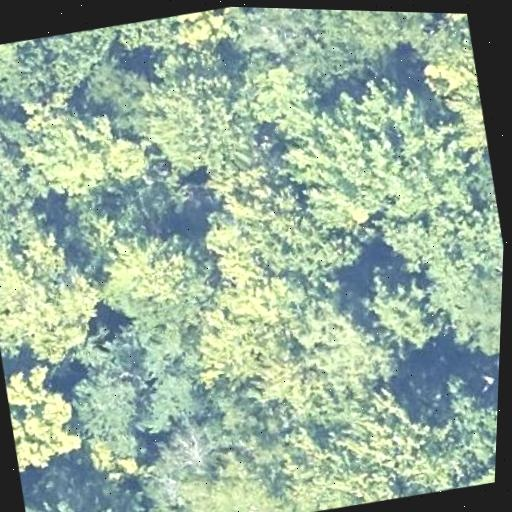tree-top: (270, 68, 447, 237), (53, 311, 214, 453), (18, 76, 160, 212), (0, 220, 121, 371), (180, 287, 312, 421), (132, 60, 267, 182), (90, 215, 222, 325), (314, 401, 442, 512), (288, 284, 399, 406), (249, 189, 373, 294), (0, 348, 97, 478), (0, 21, 131, 117), (171, 439, 307, 512), (236, 52, 333, 149), (356, 263, 449, 363), (294, 9, 443, 71), (424, 39, 494, 169), (428, 254, 503, 368), (0, 101, 57, 249), (418, 416, 497, 494), (239, 7, 327, 64), (21, 471, 141, 512), (167, 5, 251, 50), (116, 16, 174, 59), (437, 13, 470, 36)
